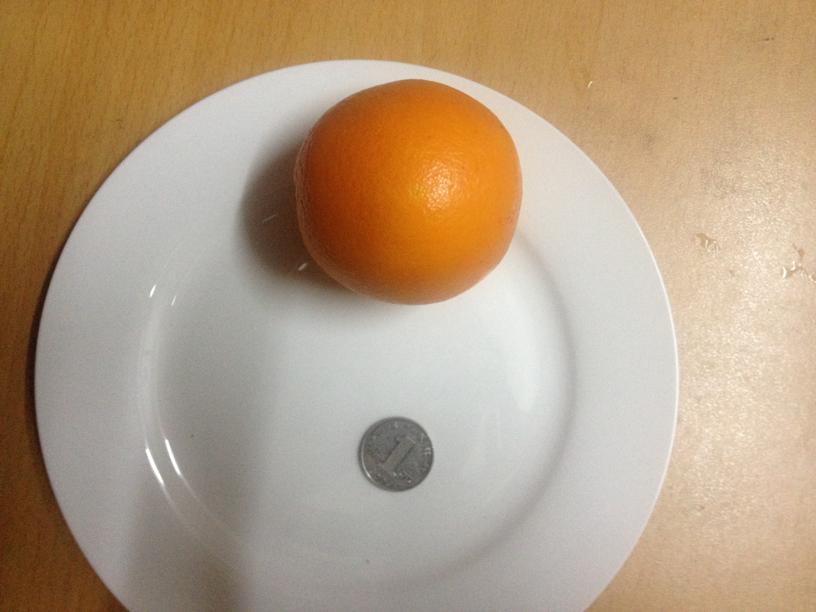coin: (358, 418, 433, 491)
orange: (299, 76, 522, 305)
